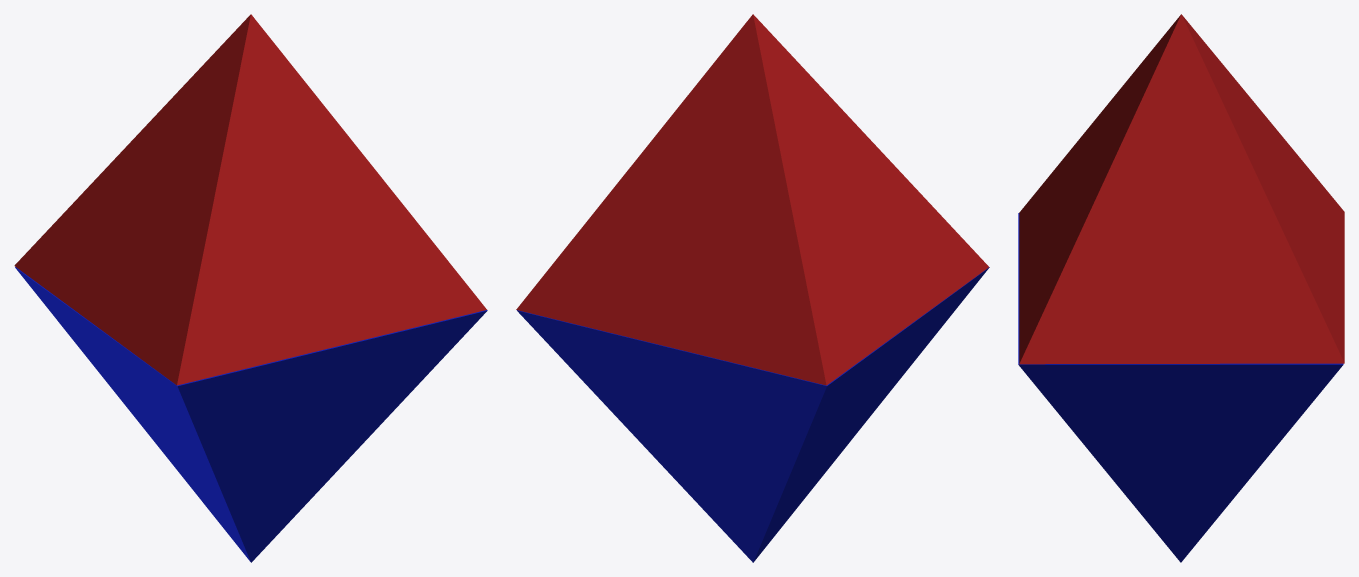
The model's file is cursor.gltf.
3 renders of one model, left to right at view 1: azimuth 30°, elevation 25°; view 2: azimuth 150°, elevation 25°; view 3: azimuth 270°, elevation 25°, orthographic.
Parts seen in each view (by area): view 1: top, bottom; view 2: top, bottom; view 3: top, bottom.
Boxes of the visible parts, box(x1,y1,x2,y2) form: top: box(14, 14, 486, 385); bottom: box(15, 267, 487, 562); top: box(516, 14, 988, 385); bottom: box(517, 267, 989, 562); top: box(1019, 14, 1344, 364); bottom: box(1018, 213, 1343, 562).
Size of the model in its own units: 2.77 by 4.67 by 2.52.
